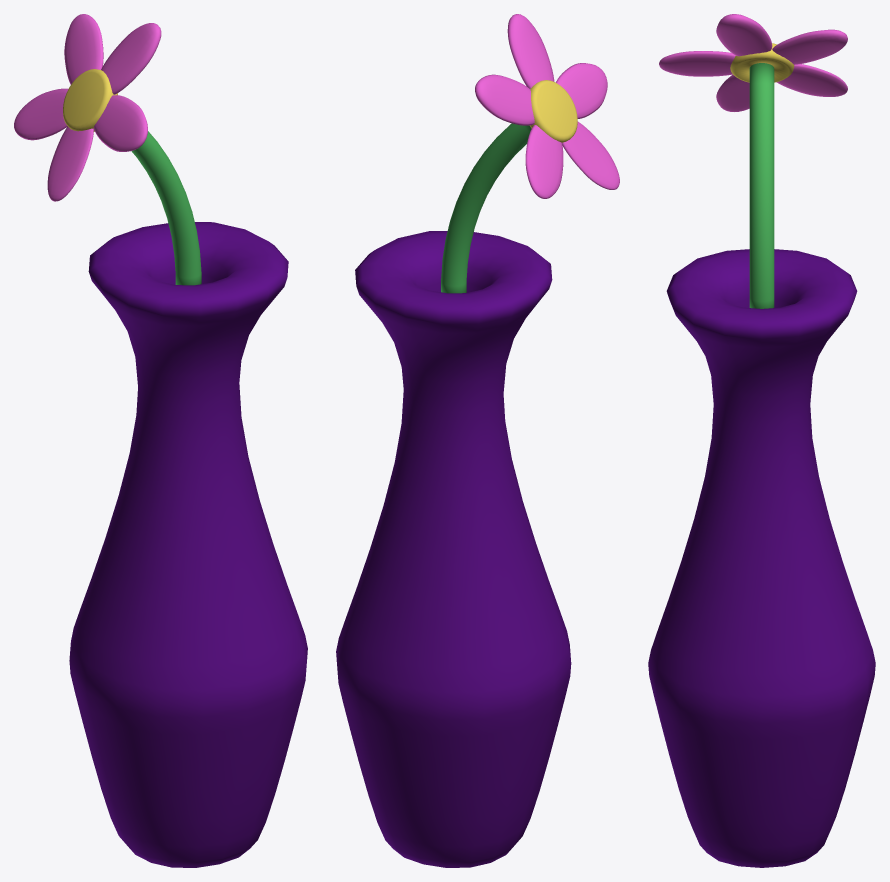
The model's file is Flower.fbx.
The picture shows the model from 3 angles, left to right: view 1: azimuth 30°, elevation 25°; view 2: azimuth 150°, elevation 25°; view 3: azimuth 270°, elevation 25°; orthographic projection. The views are drawn at different scales.
Parts seen in each view (by area): view 1: Vase, Flower; view 2: Vase, Flower; view 3: Vase, Flower.
Boxes of the visible parts, box(x1,y1,x2,y2) form: Vase: box(69, 222, 307, 867); Flower: box(14, 14, 201, 285); Vase: box(336, 231, 571, 867); Flower: box(441, 14, 619, 293); Vase: box(648, 249, 875, 867); Flower: box(659, 14, 847, 308).
Bounding box in the file's own units: 0.1631 × 0.1318 × 0.5176.
